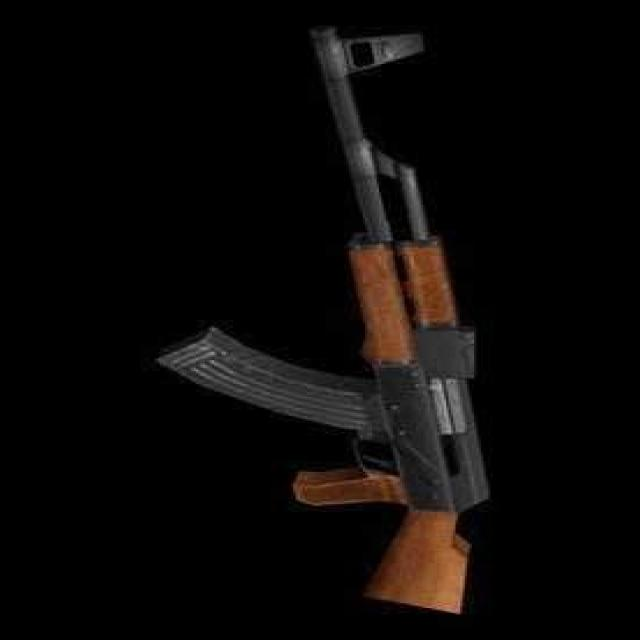heavyweapon: (136, 20, 507, 609)
